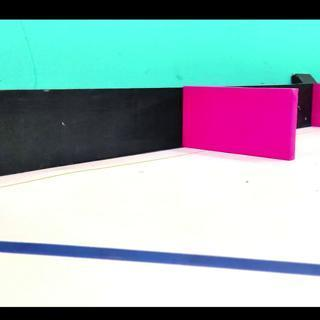xparking: (188, 93, 292, 153)
